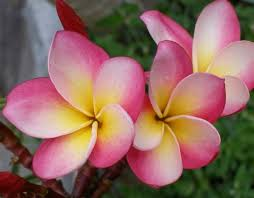frangipani: (3, 30, 147, 180)
